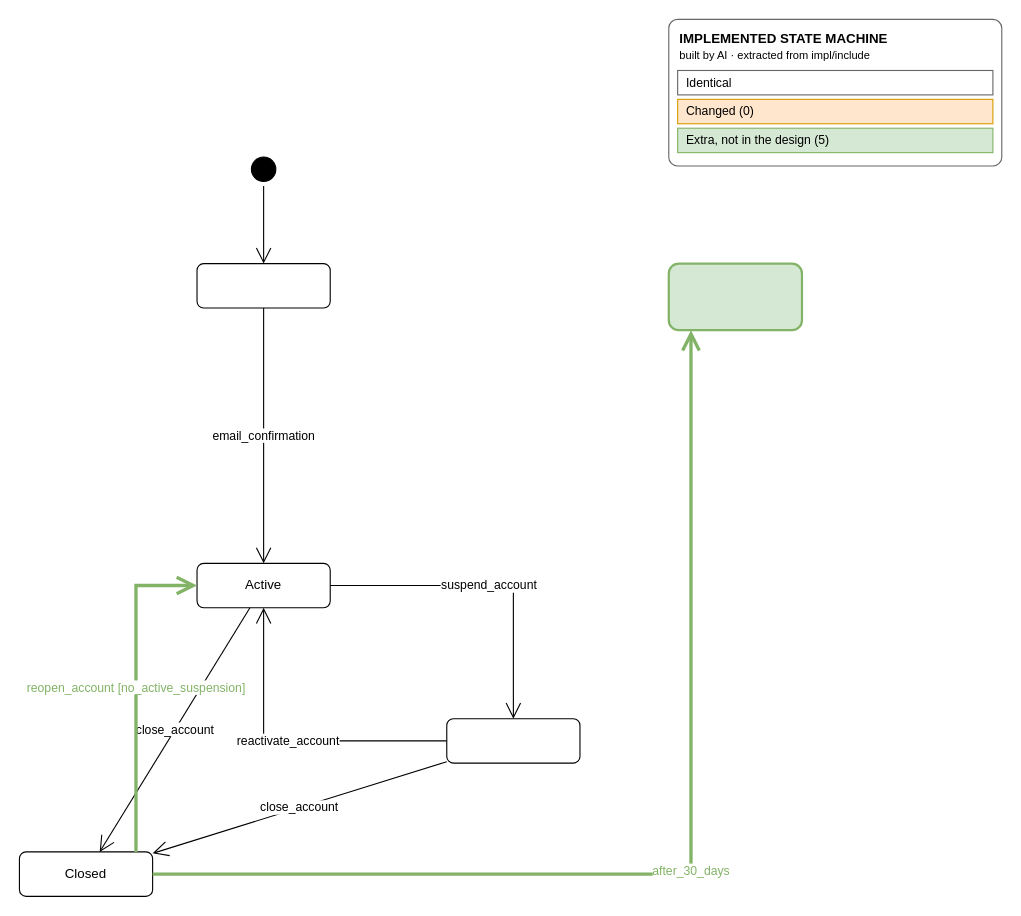
This 1021x916 diagram has some shape labels left out. Here are the shapes that lost their labels. From the top down, the centre of each, then its label:
At (263,285): "AwaitingEmailVerification".
At (735,296): "Deleted".
At (513,740): "Suspended".
